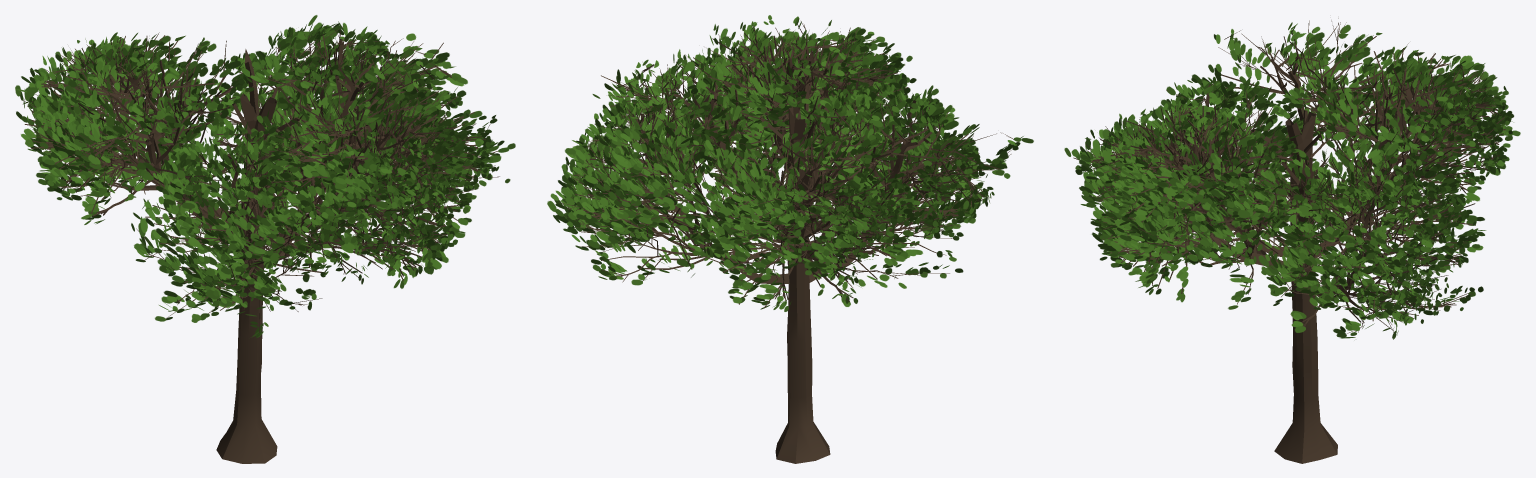
3 views of the same model, side by side, from view 1: azimuth 30°, elevation 25°; view 2: azimuth 150°, elevation 25°; view 3: azimuth 270°, elevation 25° (orthographic). The views are drawn at different scales.
Parts seen in each view (by area): view 1: oak 01.001_trunk_Mat.001_0.060; view 2: oak 01.001_trunk_Mat.001_0.060; view 3: oak 01.001_trunk_Mat.001_0.060.
Part boxes in pixels (x1=…): oak 01.001_trunk_Mat.001_0.060: x1=15, y1=15, x2=515, y2=463; oak 01.001_trunk_Mat.001_0.060: x1=547, y1=15, x2=1033, y2=463; oak 01.001_trunk_Mat.001_0.060: x1=1064, y1=18, x2=1520, y2=463.
Bounding box in the file's own units: 5.06 × 4.25 × 4.95.
2 materials, 1 textured.
